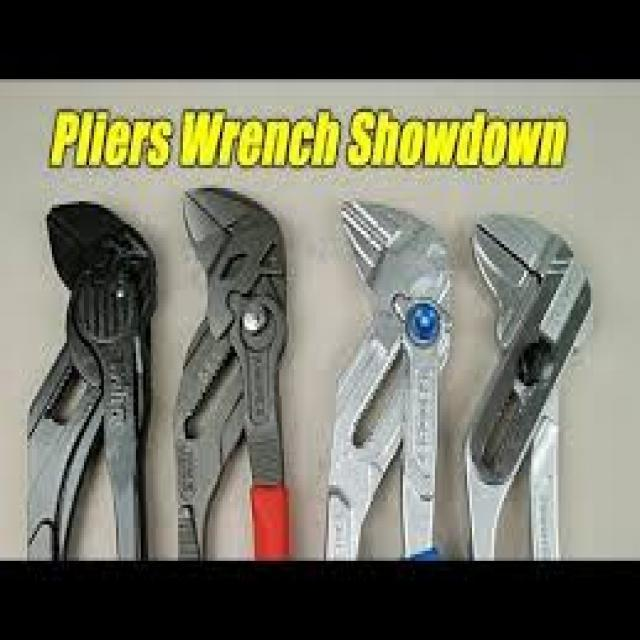pliers: (18, 190, 160, 560), (457, 200, 599, 570), (322, 188, 458, 560), (170, 181, 296, 571)
